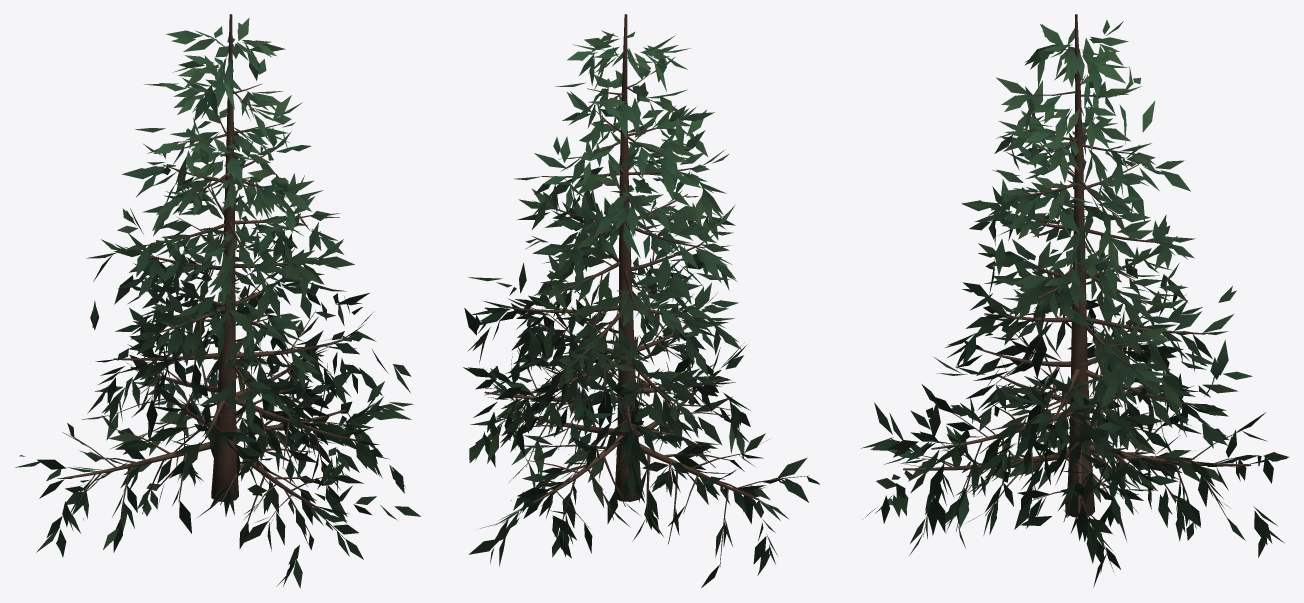
File: spruce-a.lod0.glb
3 renders of one model, left to right at view 1: azimuth 30°, elevation 25°; view 2: azimuth 150°, elevation 25°; view 3: azimuth 270°, elevation 25°, orthographic. The views are drawn at different scales.
Bounding box in the file's own units: 8.33 × 12.41 × 9.21.
